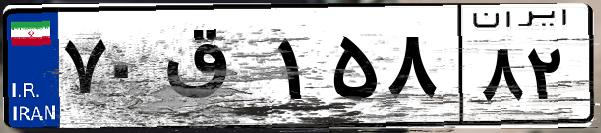0: (110, 28, 158, 98)
1: (270, 28, 330, 110)
2: (525, 38, 570, 115)
5: (330, 28, 385, 110)
7: (57, 26, 110, 100)
8: (385, 28, 445, 110), (475, 38, 525, 113)
ق: (158, 20, 270, 120)
